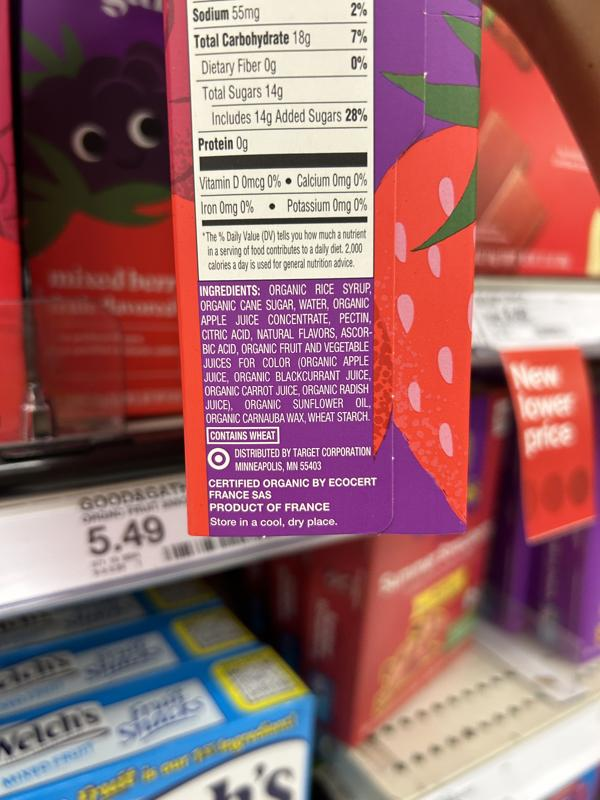ingredients: (197, 281, 376, 426)
